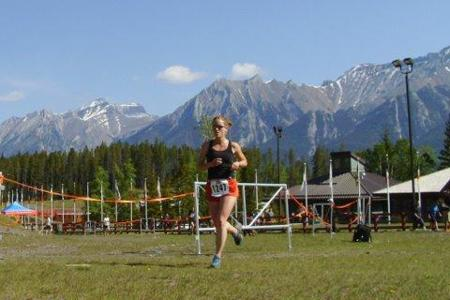person: (200, 118, 249, 267)
